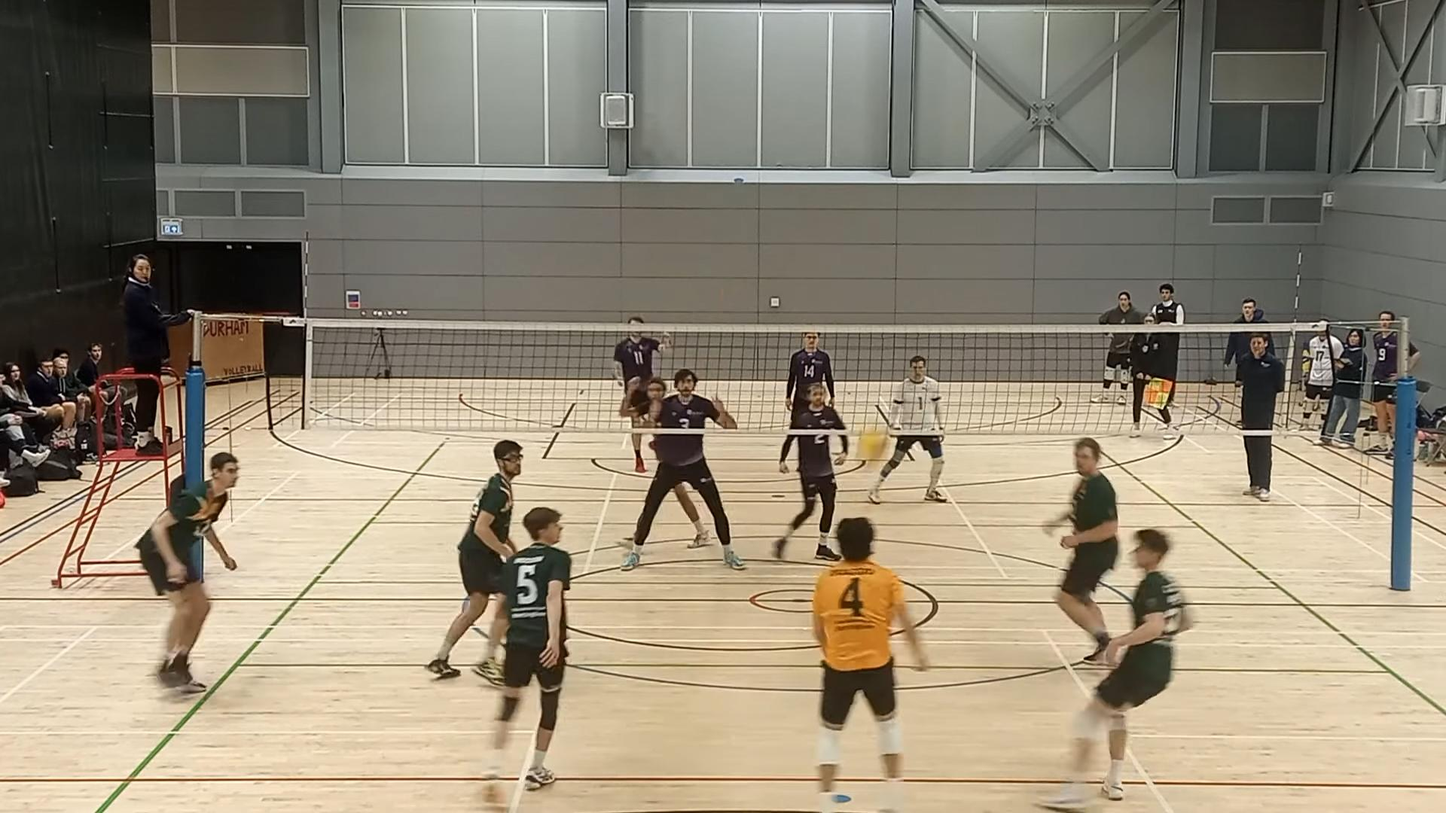Player: (1039, 529, 1191, 812), (136, 452, 238, 693), (486, 507, 570, 799), (427, 440, 522, 678), (621, 433, 746, 571), (1043, 438, 1118, 665), (773, 384, 848, 560), (867, 355, 946, 504), (784, 331, 835, 412), (613, 316, 671, 387), (620, 377, 666, 428)
Receive: (804, 514, 932, 813)
